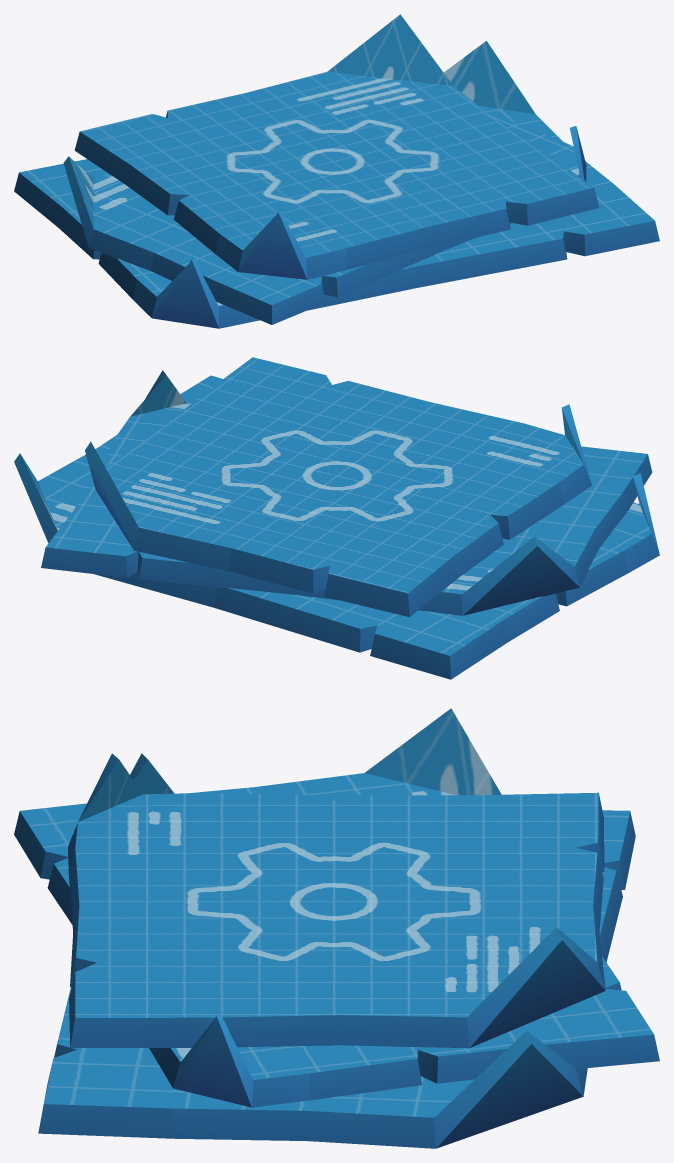
The model's file is building_planning.glb.
3 renders of one model, top to bottom at view 1: azimuth 30°, elevation 25°; view 2: azimuth 150°, elevation 25°; view 3: azimuth 270°, elevation 25°, orthographic. The views are drawn at different scales.
Visible parts, largest first — view 1: blueprint_stacked; view 2: blueprint_stacked; view 3: blueprint_stacked.
Part boxes in pixels (x1,y1,x2,y2): blueprint_stacked: (14,14,659,328); blueprint_stacked: (14,357,659,679); blueprint_stacked: (14,708,659,1148).
Size of the model in its own units: 6.18 by 1.35 by 5.1.
2 materials, 2 textured.
